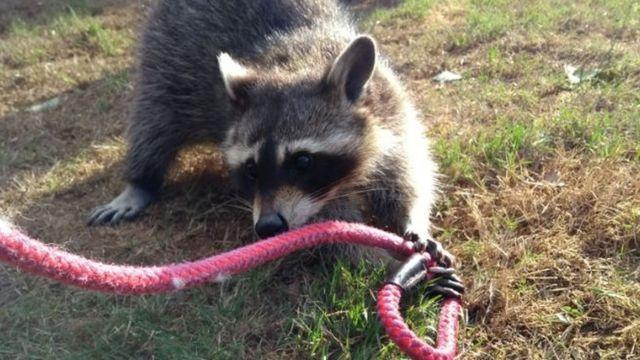raccoon: (86, 0, 473, 299)
